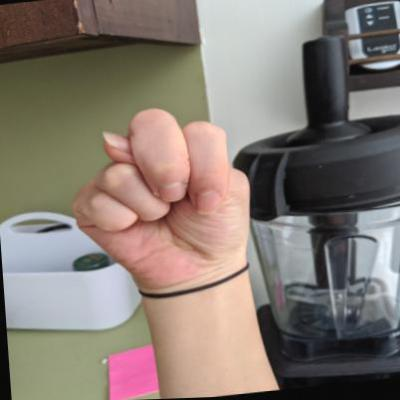hand: (62, 96, 260, 296)
